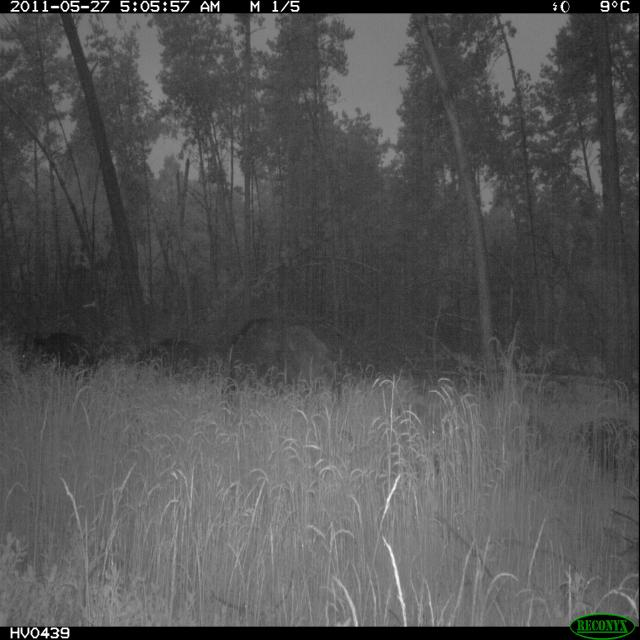boar: (216, 314, 372, 423), (128, 321, 214, 414), (9, 322, 107, 394)
